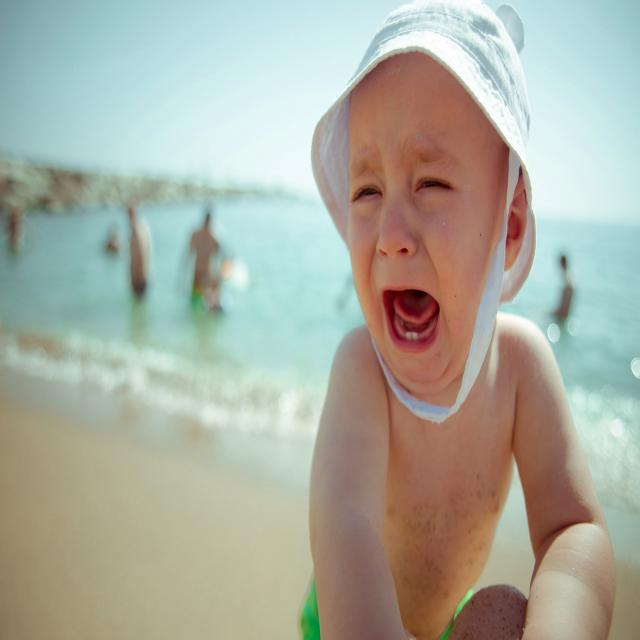child: (296, 4, 617, 640)
